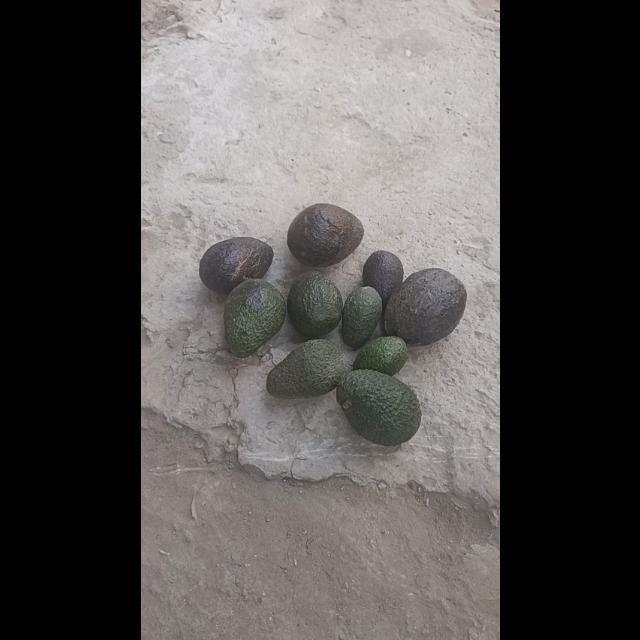Primera: (384, 267, 466, 345), (336, 368, 420, 444), (221, 278, 285, 356), (285, 202, 363, 266), (198, 235, 272, 292)
Segunda: (266, 338, 346, 397), (285, 270, 343, 336)
Tercera: (340, 286, 382, 348), (361, 250, 404, 306), (351, 336, 407, 376)
